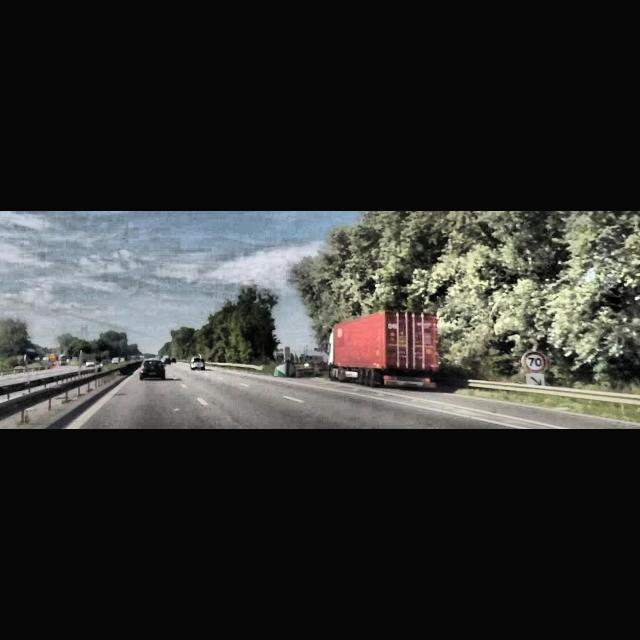speed_70: (523, 352, 547, 372)
